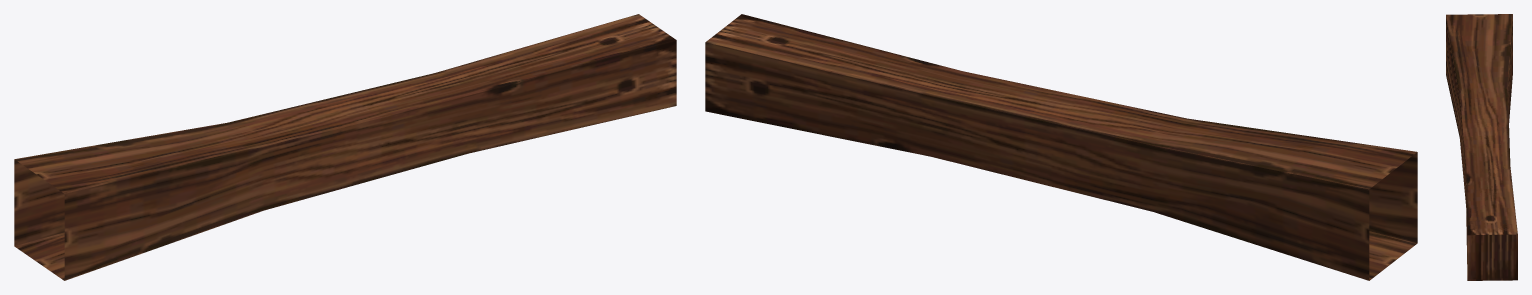
File: OVERHILL_A_01_POST26.fbx
3 renders of one model, left to right at view 1: azimuth 30°, elevation 25°; view 2: azimuth 150°, elevation 25°; view 3: azimuth 270°, elevation 25°, orthographic. The views are drawn at different scales.
Visible parts, largest first — view 1: OVERHILL_A_01_POST26; view 2: OVERHILL_A_01_POST26; view 3: OVERHILL_A_01_POST26.
Boxes of the visible parts, left/top/right/bottom form: OVERHILL_A_01_POST26: left=14, top=14, right=676, bottom=280; OVERHILL_A_01_POST26: left=705, top=14, right=1417, bottom=280; OVERHILL_A_01_POST26: left=1446, top=14, right=1517, bottom=280.
Size of the model in its own units: 16832 by 2225 by 2391.
Materials: 1 (1 with a texture image).
